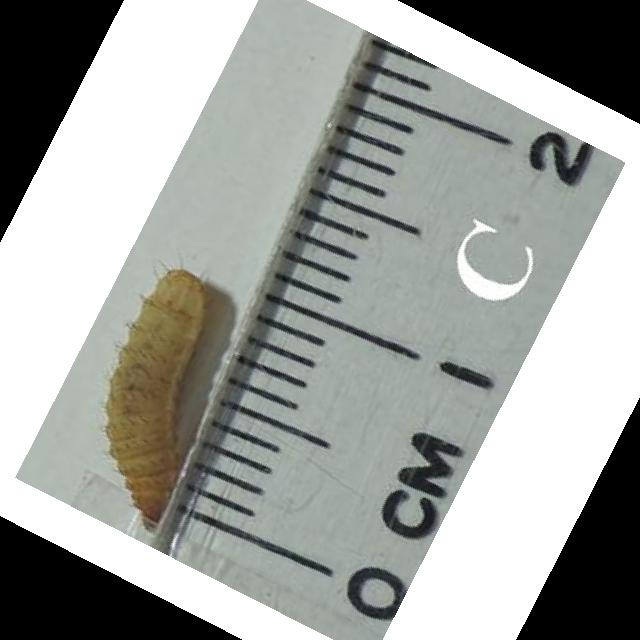Maggot: (101, 267, 213, 531)
